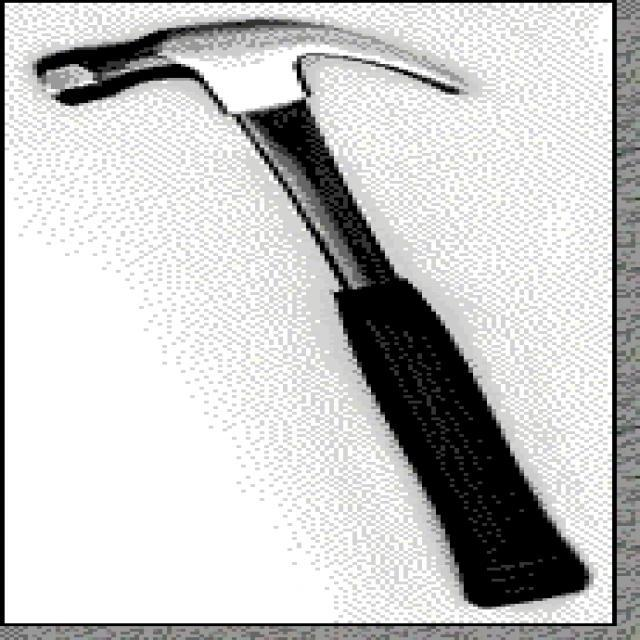hammer: (30, 12, 602, 610)
